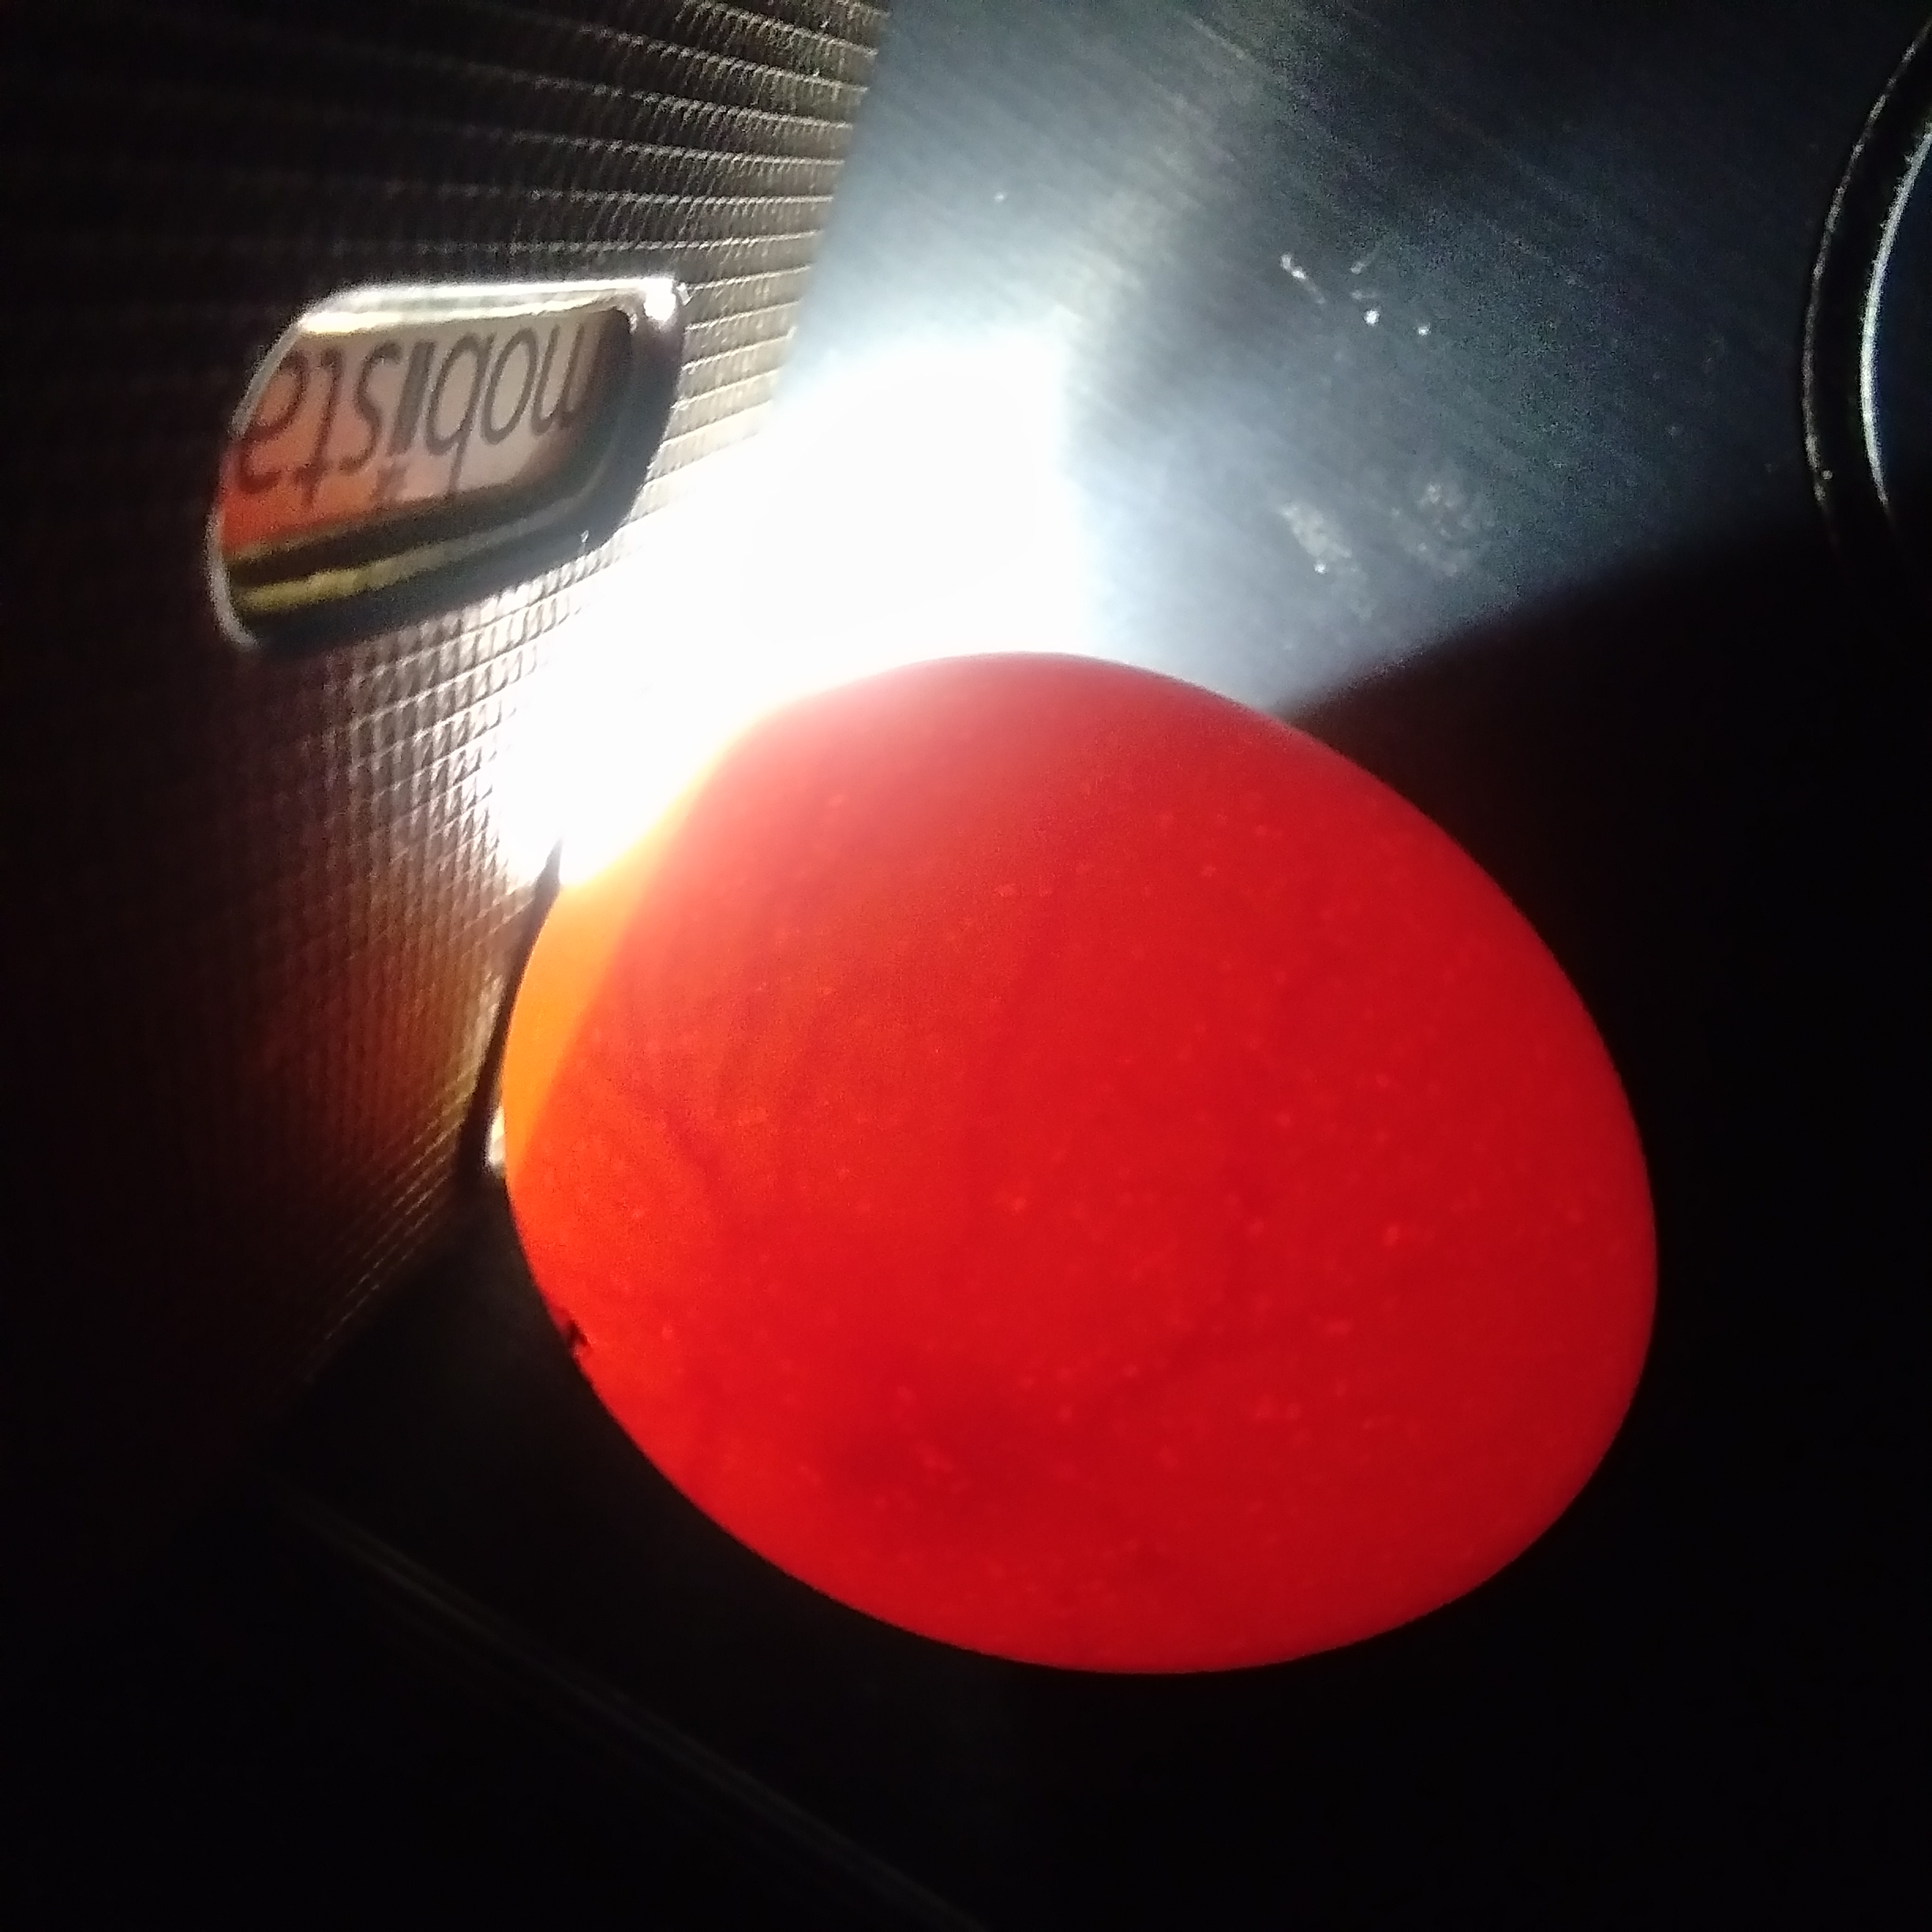bloodcell: (600, 1021, 1223, 1304), (690, 828, 1253, 1007)
embryo: (796, 1339, 1040, 1557)
